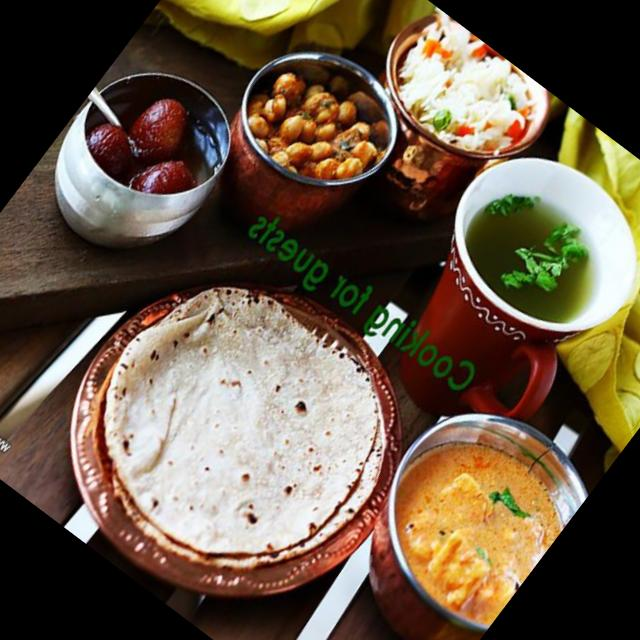rice: (372, 4, 554, 176)
roti: (40, 238, 438, 634)
